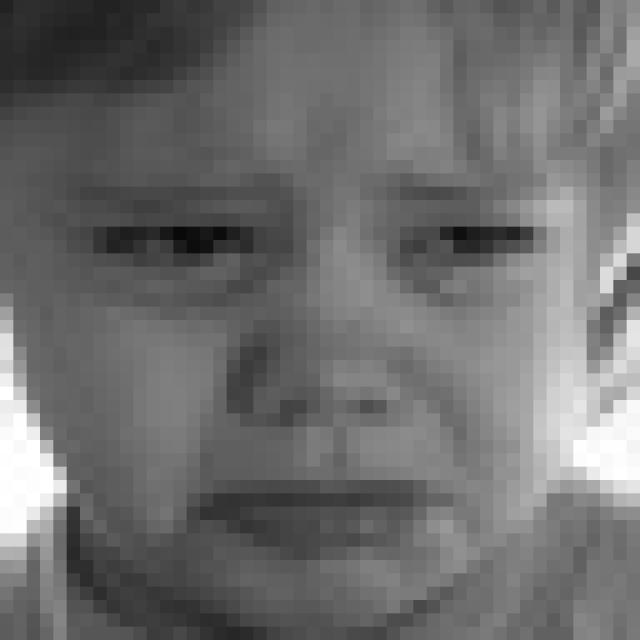sad: (55, 157, 564, 565)
